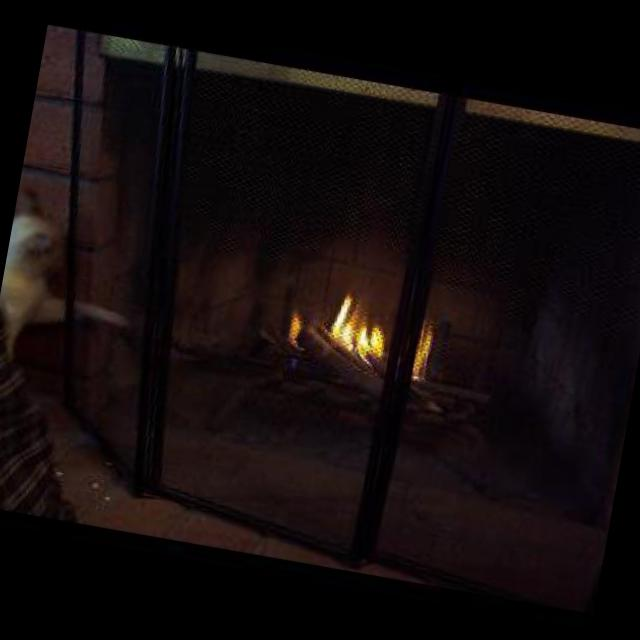fire: (277, 274, 447, 382)
